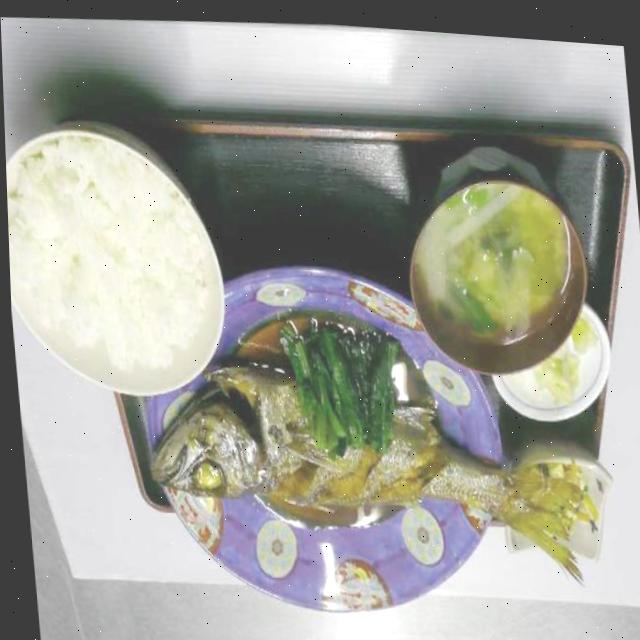熟制海鲜: (113, 310, 610, 622)
